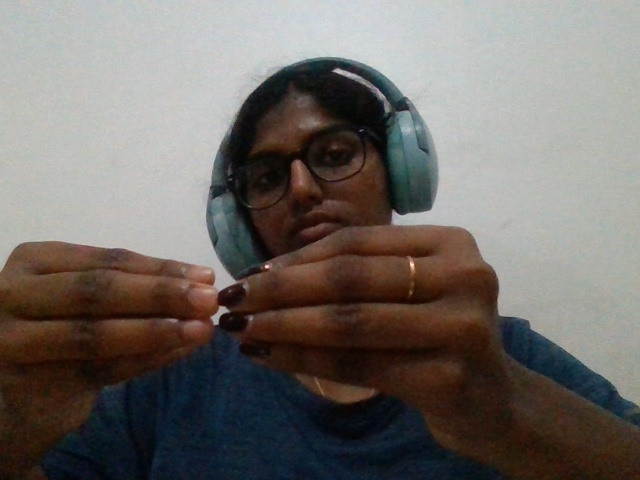More: (1, 217, 543, 479)
